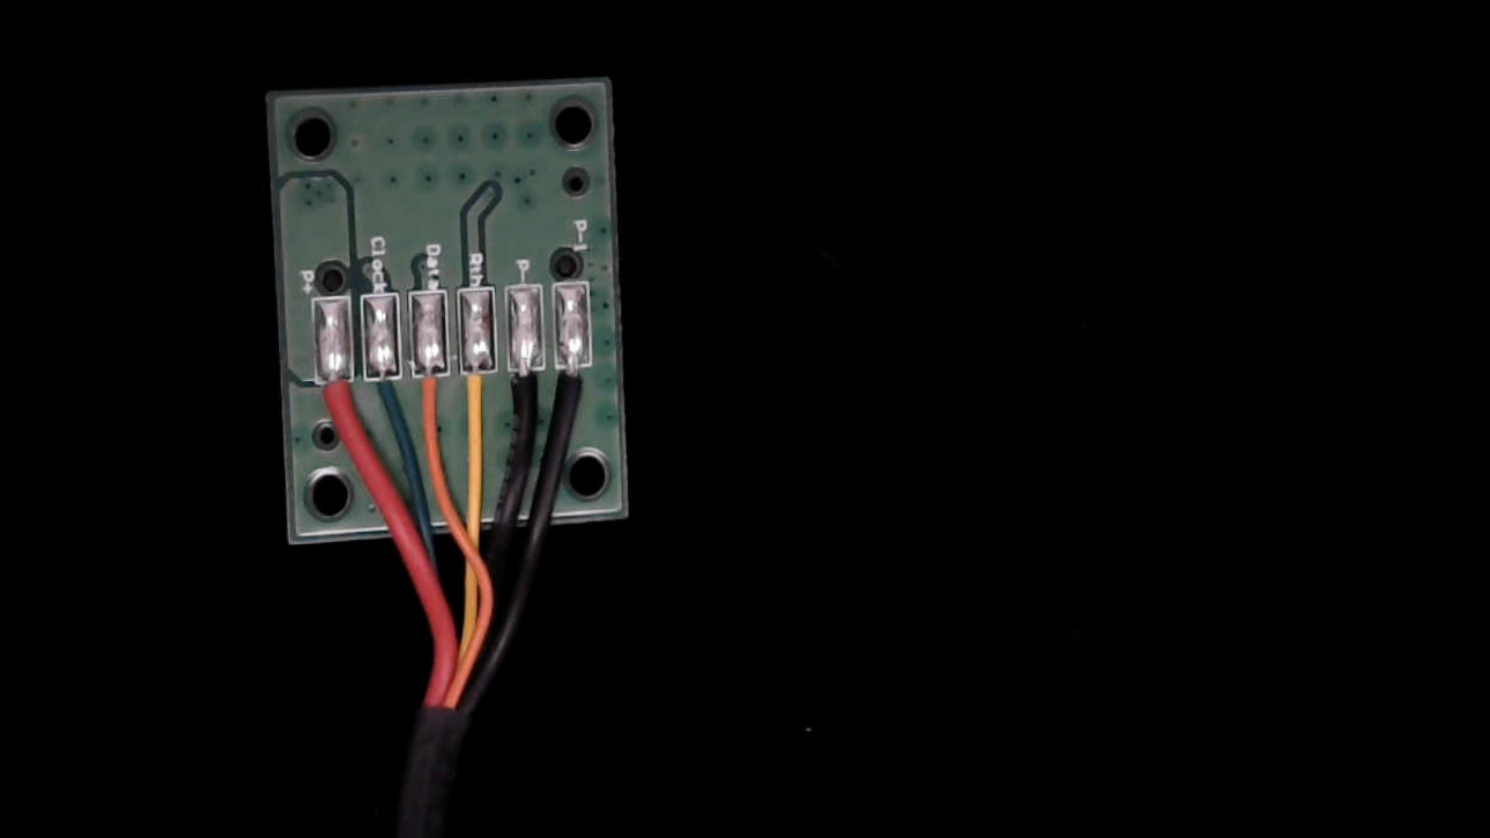Black: (509, 349, 544, 441)
Black1: (556, 344, 597, 434)
Green: (362, 356, 402, 432)
Orange: (410, 350, 449, 431)
Red: (316, 358, 356, 439)
Yellow: (461, 348, 494, 434)
